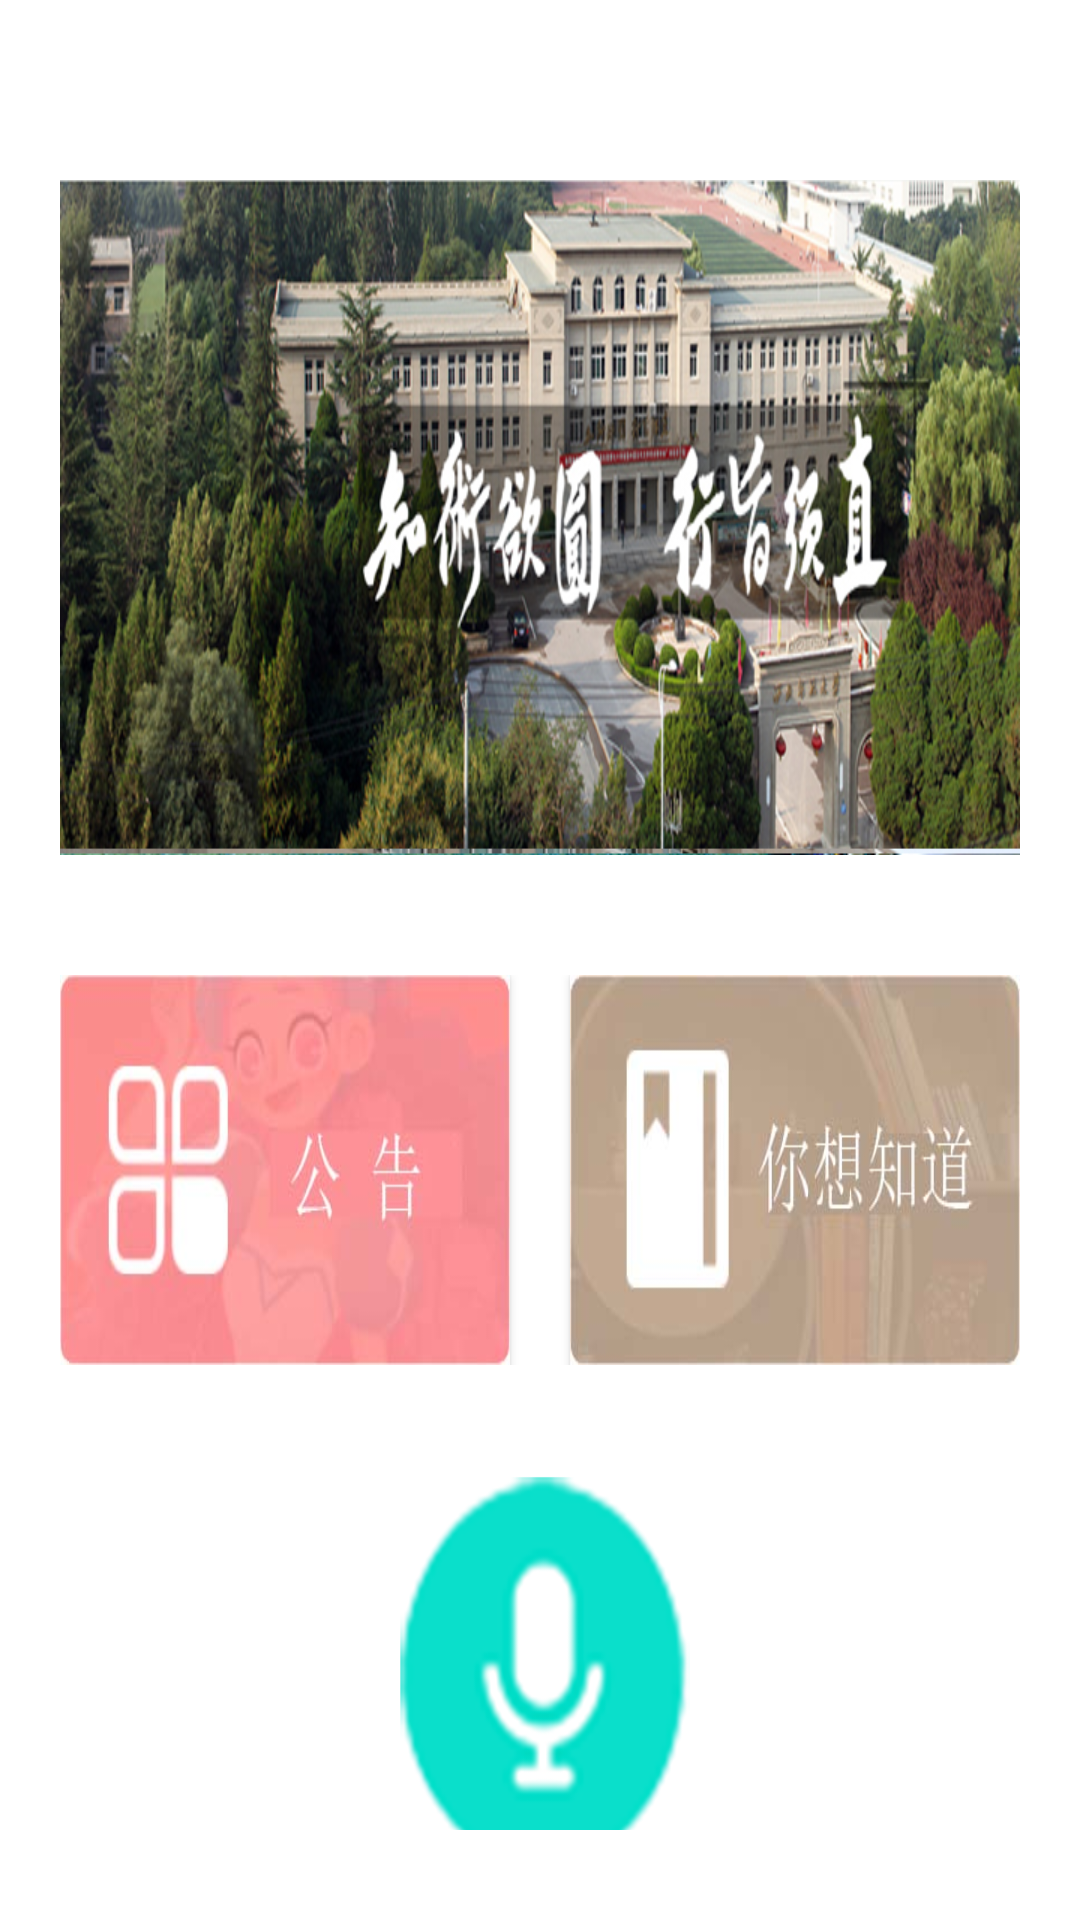

Icons on this 1080 × 1920 Android screen, each with its box as (x1, y1, x2, y2):
talkbutton: (400, 1477, 687, 1830)
